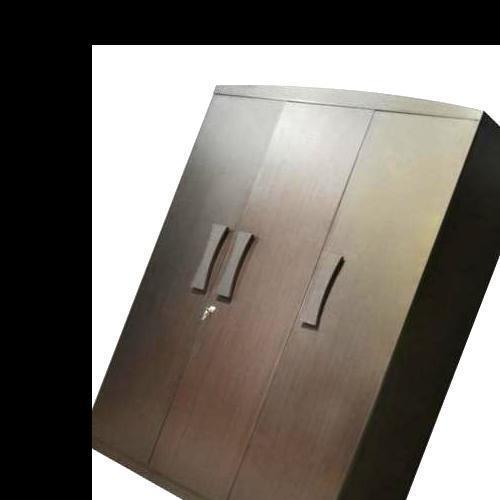Armario: (95, 78, 500, 500)
